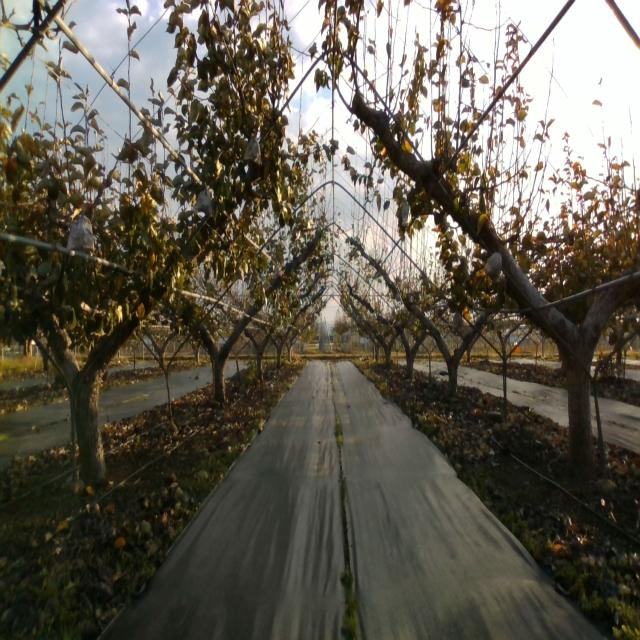pearbags: (65, 208, 95, 256), (484, 252, 503, 284), (243, 136, 262, 168), (194, 186, 212, 216), (452, 308, 465, 334), (402, 200, 412, 227)
